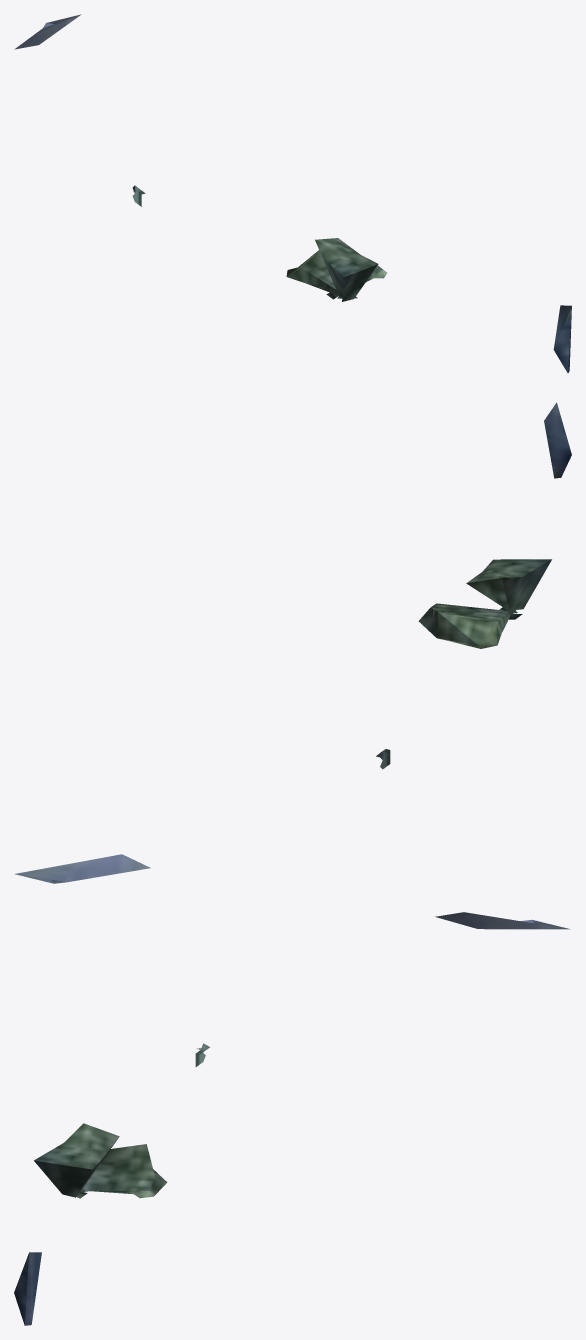
3 views of the same model, one above another, from view 1: azimuth 30°, elevation 25°; view 2: azimuth 150°, elevation 25°; view 3: azimuth 330°, elevation 25° (orthographic). The views are drawn at different scales.
Visible parts, largest first — view 1: 30436272704361437535_0; view 2: 30436272704361437535_0; view 3: 30436272704361437535_0.
Part boxes in pixels (x1,y1,x2,y2): 30436272704361437535_0: [14, 14, 571, 373]; 30436272704361437535_0: [14, 402, 571, 883]; 30436272704361437535_0: [14, 912, 570, 1325].
Size of the model in its own units: 5.52 by 2.93 by 32.55.
Materials: 1 (1 with a texture image).
